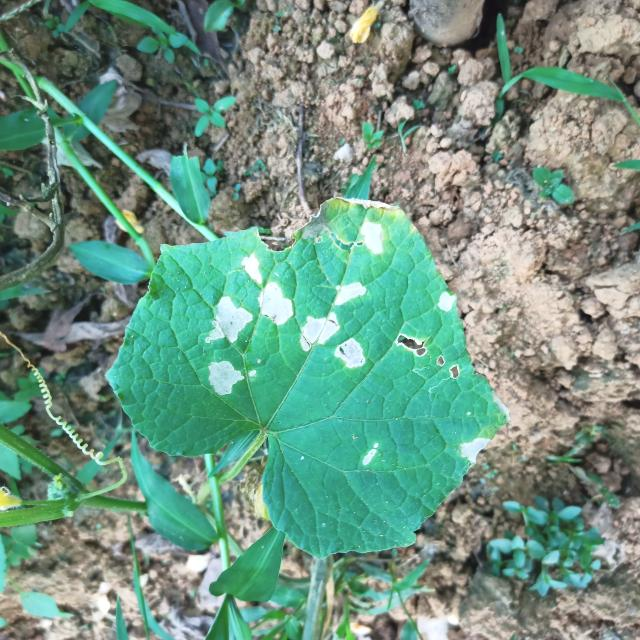disease_cucumber: (240, 254, 294, 325), (300, 312, 366, 370), (395, 332, 460, 382), (204, 294, 254, 345), (206, 358, 258, 398), (330, 280, 369, 308), (358, 220, 385, 257), (457, 436, 491, 464), (362, 442, 380, 468), (438, 290, 454, 313)
